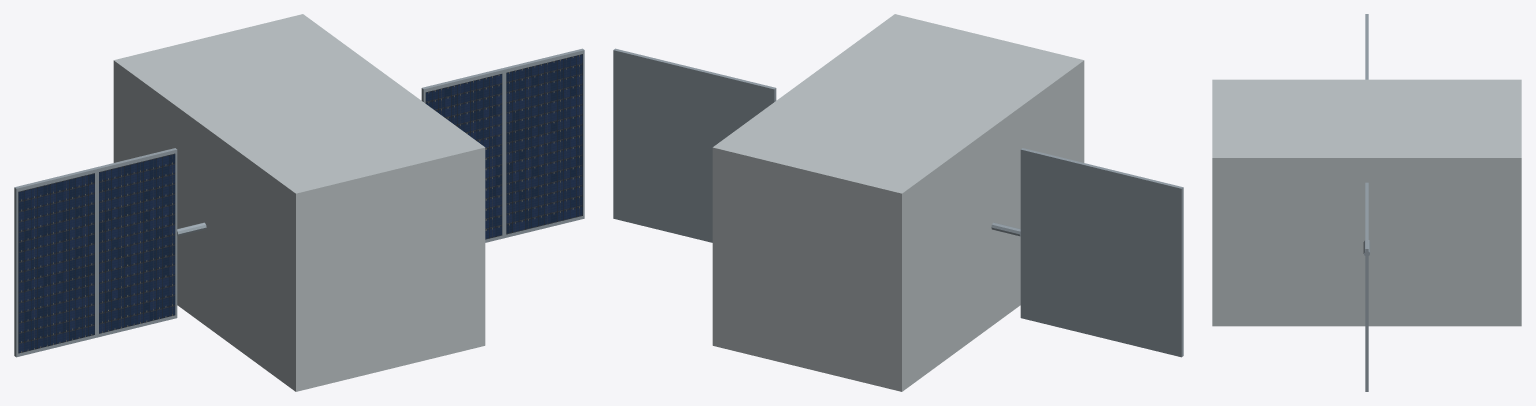
File: ref-sseti-28894.glb
3 views of the same model, side by side, from view 1: azimuth 30°, elevation 25°; view 2: azimuth 150°, elevation 25°; view 3: azimuth 270°, elevation 25° (orthographic). The views are drawn at different scales.
Parts seen in each view (by area): view 1: Spacecraft body, Photovoltaic laminates (×4), Array frame (×4); view 2: Spacecraft body, Array frame (×4); view 3: Spacecraft body, Array frame.
Part boxes in pixels (x1,y1,x2,y2): Spacecraft body: (113, 14, 485, 391); Photovoltaic laminates (×4): (18, 54, 582, 353); Array frame (×4): (14, 48, 584, 357); Spacecraft body: (712, 14, 1084, 391); Array frame (×4): (613, 48, 1183, 357); Spacecraft body: (1212, 79, 1521, 326); Array frame: (1365, 215, 1368, 391).
Bounding box in the file's own units: 1.8 × 0.6 × 1.
3 materials, 1 textured.
